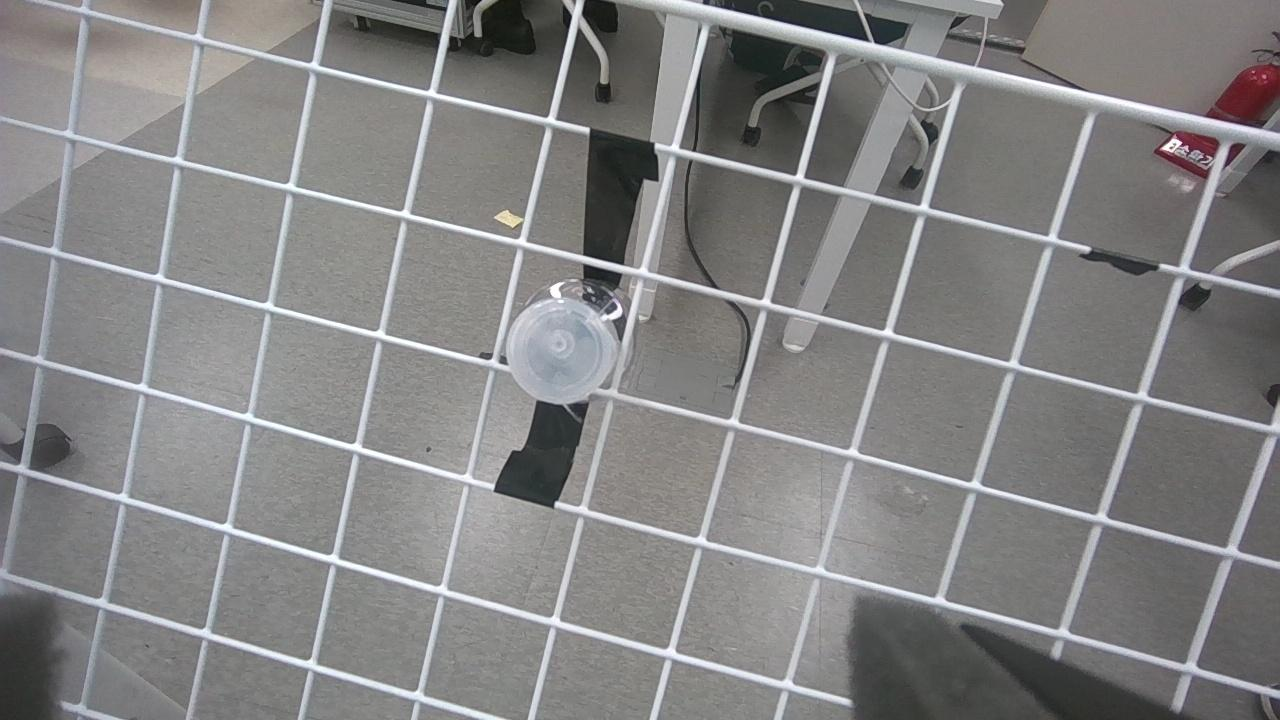Cap: (506, 295, 624, 406)
